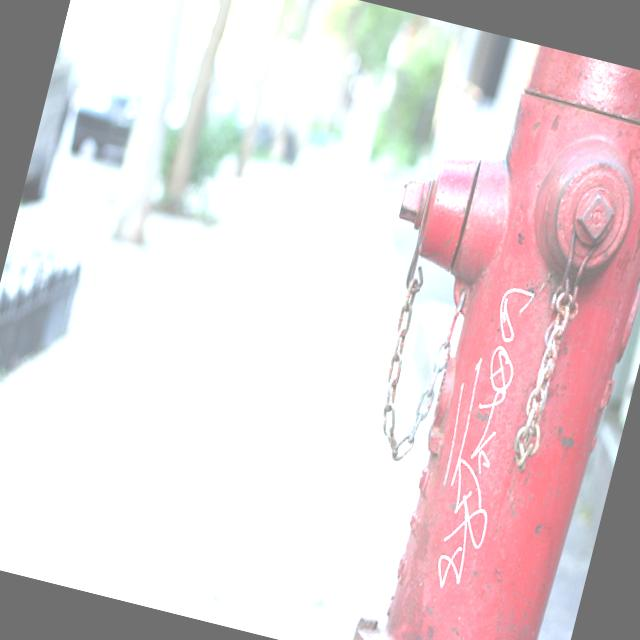Vehicle: (13, 0, 100, 234), (145, 39, 253, 190), (64, 26, 158, 170)
